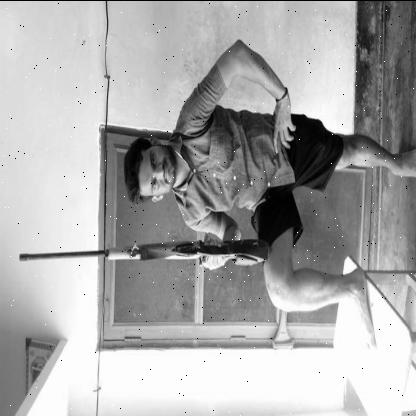rifle: (17, 232, 274, 273)
